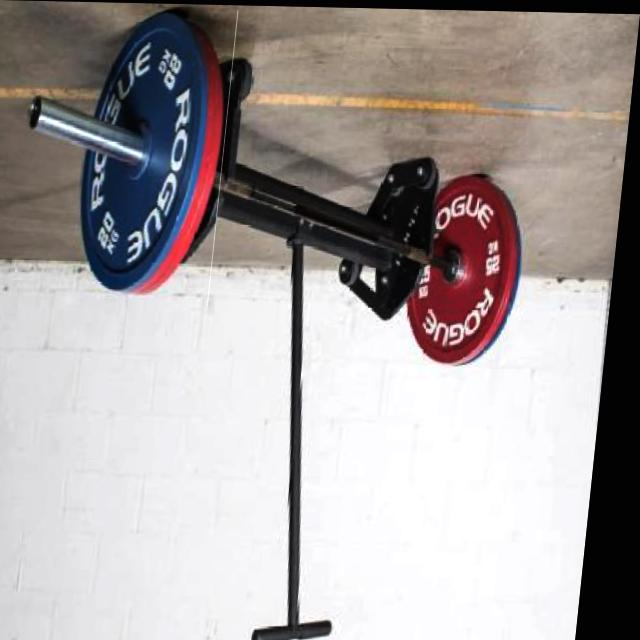barbell: (63, 8, 239, 306)
